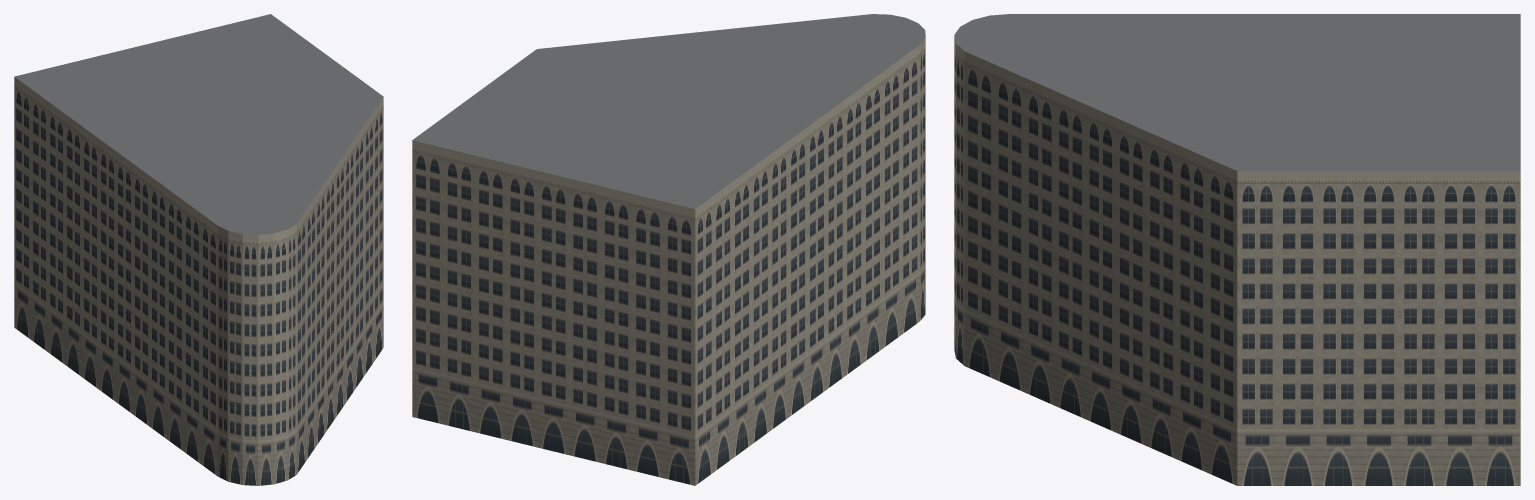
Rendered from flood_building.glb.
The picture shows the model from 3 angles, left to right: view 1: azimuth 30°, elevation 25°; view 2: azimuth 150°, elevation 25°; view 3: azimuth 270°, elevation 25°; orthographic projection. The views are drawn at different scales.
Visible parts, largest first — view 1: flood_building; view 2: flood_building; view 3: flood_building.
Part boxes in pixels (x1=…): flood_building: x1=14, y1=14, x2=383, y2=485; flood_building: x1=412, y1=14, x2=925, y2=485; flood_building: x1=954, y1=14, x2=1520, y2=485.
Size of the model in its own units: 53.5 by 50 by 81.5.
Materials: 2 (2 with a texture image).
